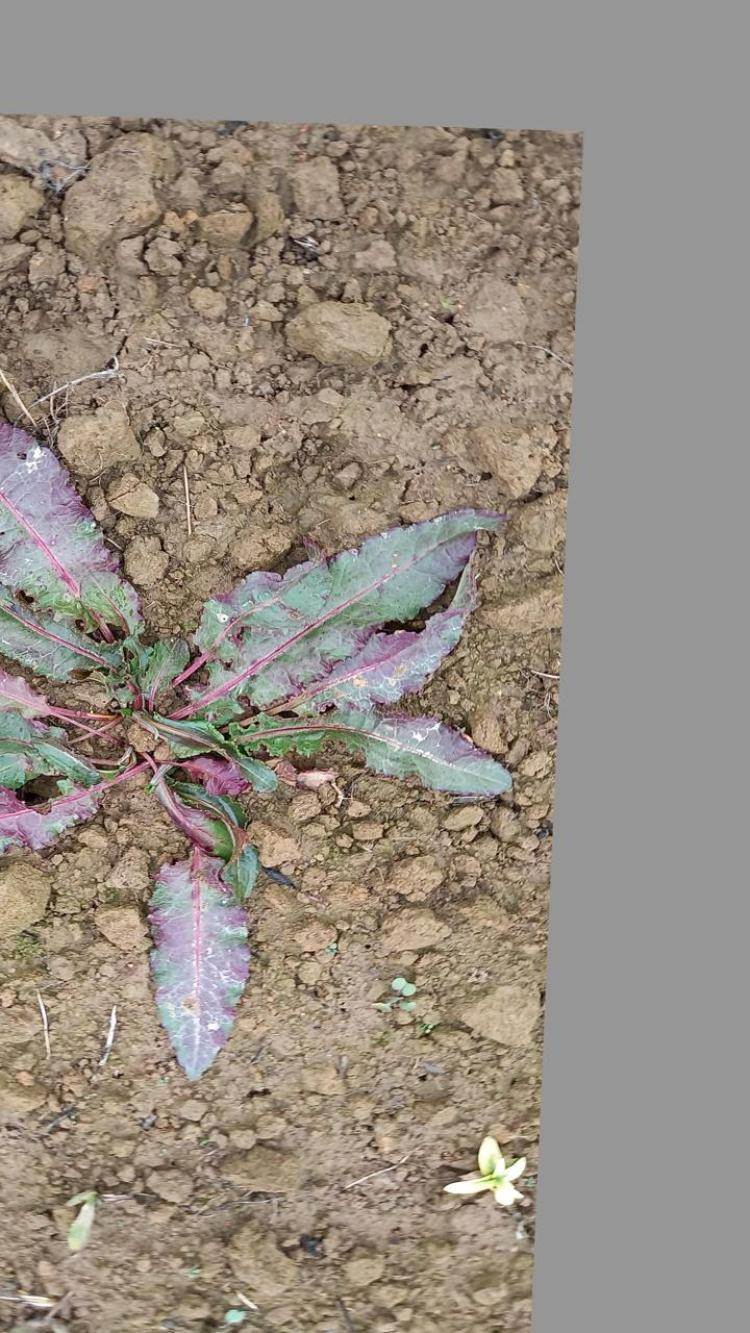zhavel: (0, 418, 517, 1074)
